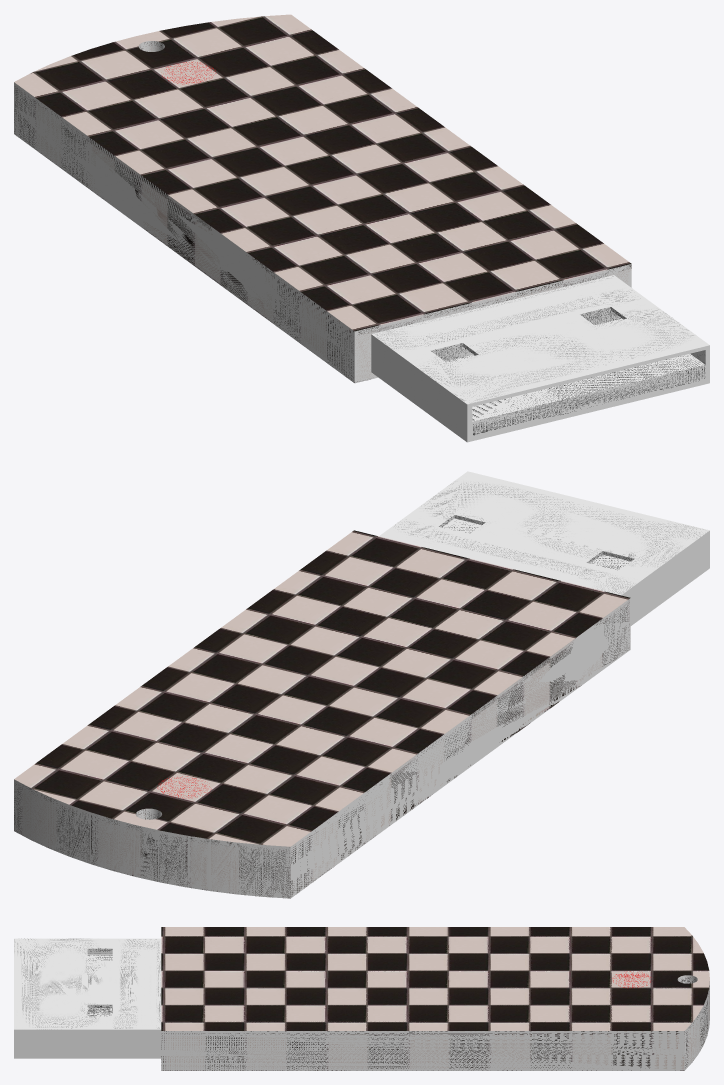
File: original-5.obj
The picture shows the model from 3 angles, top to bottom: view 1: azimuth 30°, elevation 25°; view 2: azimuth 150°, elevation 25°; view 3: azimuth 270°, elevation 25°; orthographic projection. The views are drawn at different scales.
Visible parts, largest first — view 1: mesh4/mesh4-geometry#mesh4-geometry; view 2: mesh4/mesh4-geometry#mesh4-geometry; view 3: mesh4/mesh4-geometry#mesh4-geometry.
Part boxes in pixels (bbox=[...]): mesh4/mesh4-geometry#mesh4-geometry: bbox=[14, 14, 709, 442]; mesh4/mesh4-geometry#mesh4-geometry: bbox=[14, 471, 709, 898]; mesh4/mesh4-geometry#mesh4-geometry: bbox=[14, 927, 709, 1070].
Bounding box in the file's own units: 0.4538 × 0.0814 × 1.29.
